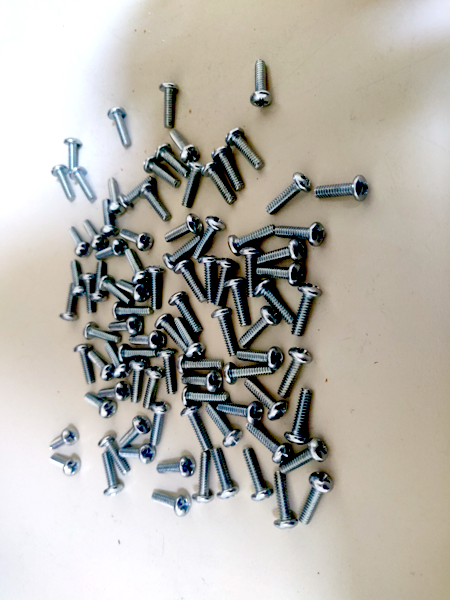shortscrew: (298, 471, 335, 526), (266, 173, 312, 216), (245, 422, 291, 464), (245, 378, 288, 422), (253, 280, 295, 324), (279, 438, 330, 474), (239, 306, 282, 348), (278, 347, 312, 399), (225, 127, 264, 171), (284, 388, 314, 445), (291, 284, 323, 337), (243, 448, 274, 502), (206, 403, 243, 448), (201, 161, 237, 206), (211, 145, 245, 192), (273, 471, 298, 531), (180, 404, 211, 452), (229, 225, 275, 257), (169, 292, 203, 335), (315, 176, 369, 203), (193, 216, 226, 260), (174, 259, 207, 303), (164, 234, 202, 271), (212, 448, 239, 500), (211, 307, 238, 357), (224, 278, 251, 327), (98, 434, 130, 475), (258, 238, 306, 265), (139, 183, 172, 222), (275, 222, 326, 247), (224, 362, 277, 386), (155, 143, 190, 179), (118, 177, 155, 211), (155, 314, 187, 353), (175, 318, 205, 359), (237, 346, 285, 371), (214, 258, 238, 308), (143, 156, 180, 188), (257, 263, 306, 287), (193, 451, 215, 503), (164, 214, 203, 243), (250, 59, 273, 108), (240, 247, 262, 298), (148, 401, 172, 447), (217, 401, 264, 424), (101, 452, 125, 497), (158, 82, 180, 130), (182, 385, 230, 407), (119, 416, 152, 448), (151, 492, 191, 518), (143, 366, 166, 411), (156, 349, 179, 394), (99, 276, 133, 306), (169, 129, 199, 163), (182, 161, 203, 209), (124, 249, 151, 286), (198, 256, 218, 305), (69, 167, 96, 203), (104, 343, 131, 379), (108, 107, 131, 149), (181, 370, 223, 393), (178, 355, 224, 376), (51, 165, 76, 202), (145, 265, 165, 311), (74, 345, 97, 385), (128, 359, 148, 404), (89, 350, 118, 381), (84, 393, 118, 419), (157, 456, 197, 478), (90, 261, 110, 304), (116, 279, 151, 303), (84, 322, 122, 344), (118, 344, 159, 364), (83, 220, 109, 251), (120, 229, 155, 252), (100, 199, 120, 238), (68, 228, 93, 259), (119, 445, 157, 465), (60, 283, 79, 321), (80, 273, 97, 315), (129, 331, 166, 350), (95, 239, 128, 260), (49, 427, 79, 450), (98, 382, 132, 402), (49, 456, 81, 477), (64, 139, 83, 174), (107, 178, 124, 217), (71, 260, 86, 297)
